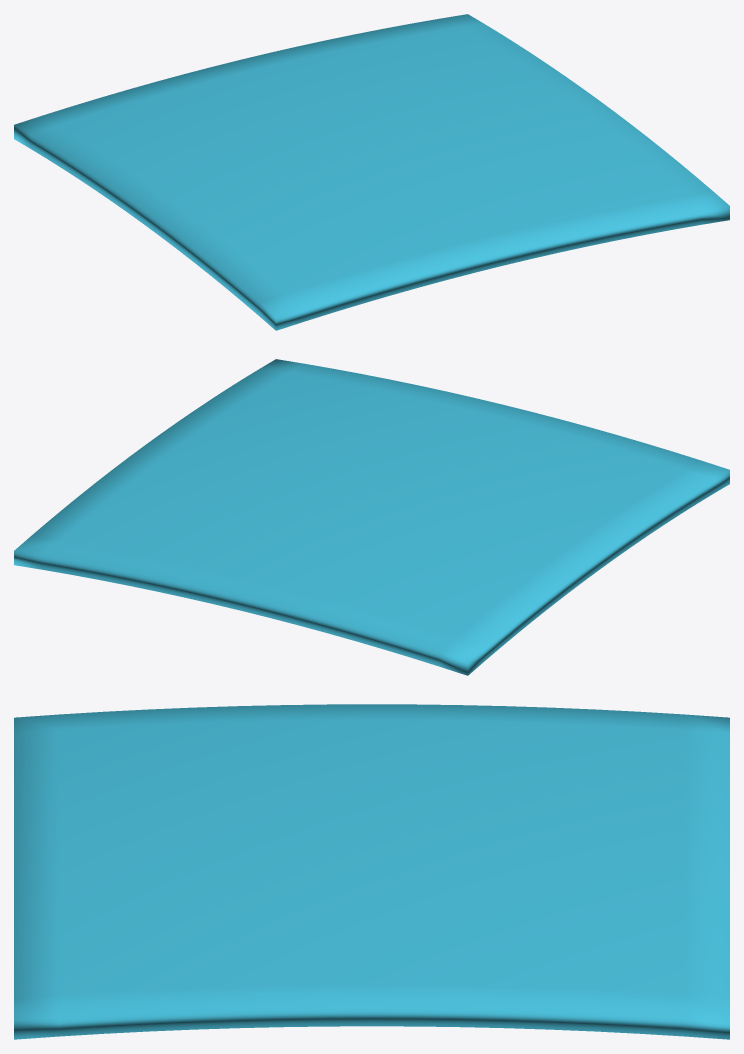
The model's file is planet_930_ocean_water.glb.
3 renders of one model, top to bottom at view 1: azimuth 30°, elevation 25°; view 2: azimuth 150°, elevation 25°; view 3: azimuth 270°, elevation 25°, orthographic. The views are drawn at different scales.
Visible parts, largest first — view 1: planet_930_ocean_water; view 2: planet_930_ocean_water; view 3: planet_930_ocean_water.
Part boxes in pixels (x1,y1,x2,y2): planet_930_ocean_water: [14, 14, 729, 330]; planet_930_ocean_water: [14, 359, 729, 675]; planet_930_ocean_water: [14, 704, 729, 1039].
Bounding box in the file's own units: 65536 × 4660 × 65536.
